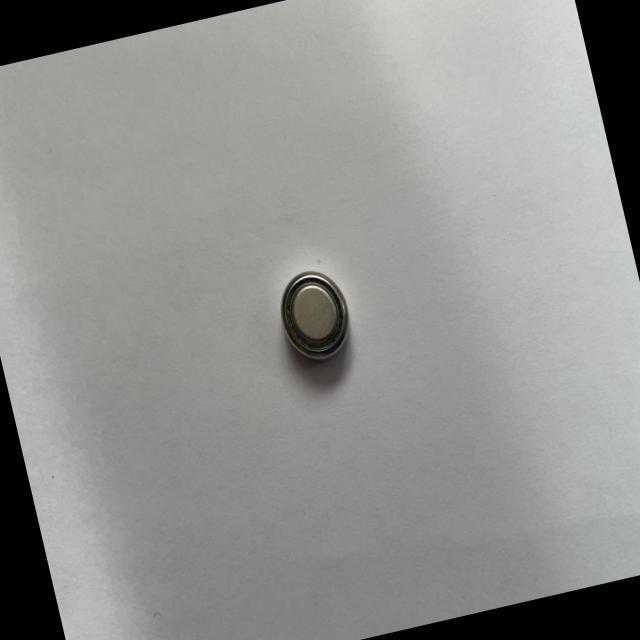COIN: (270, 262, 362, 372)
